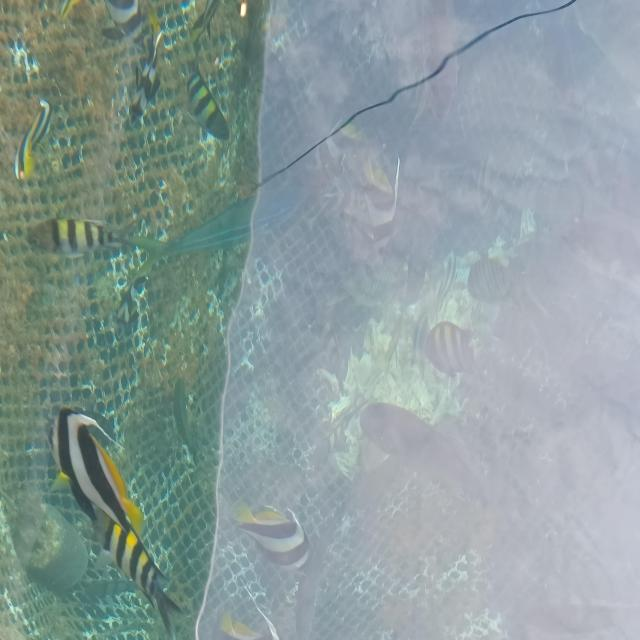ikan: (42, 376, 170, 578), (228, 475, 327, 576), (178, 59, 260, 160), (29, 203, 121, 277), (10, 93, 64, 191)
